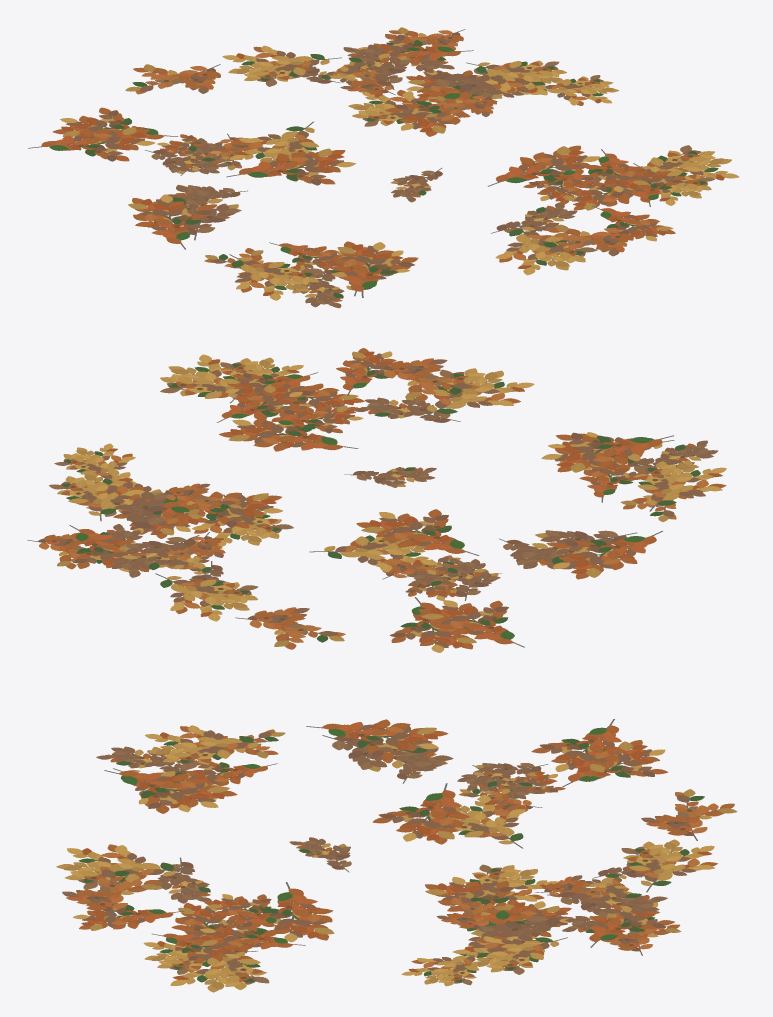
Rendered from hetre_jeune_a.fbx.
3 views of the same model, one above another, from view 1: azimuth 30°, elevation 25°; view 2: azimuth 150°, elevation 25°; view 3: azimuth 270°, elevation 25° (orthographic). The views are drawn at different scales.
Parts seen in each view (by area): view 1: hetre_jeune_a_feuilles_sol; view 2: hetre_jeune_a_feuilles_sol; view 3: hetre_jeune_a_feuilles_sol.
Boxes of the visible parts, <box> form: hetre_jeune_a_feuilles_sol: <box>28,27,739,308</box>; hetre_jeune_a_feuilles_sol: <box>27,348,726,652</box>; hetre_jeune_a_feuilles_sol: <box>56,719,737,992</box>.
Size of what is drawn, in the model's own units: 2.14 by 0.00589 by 2.22.
